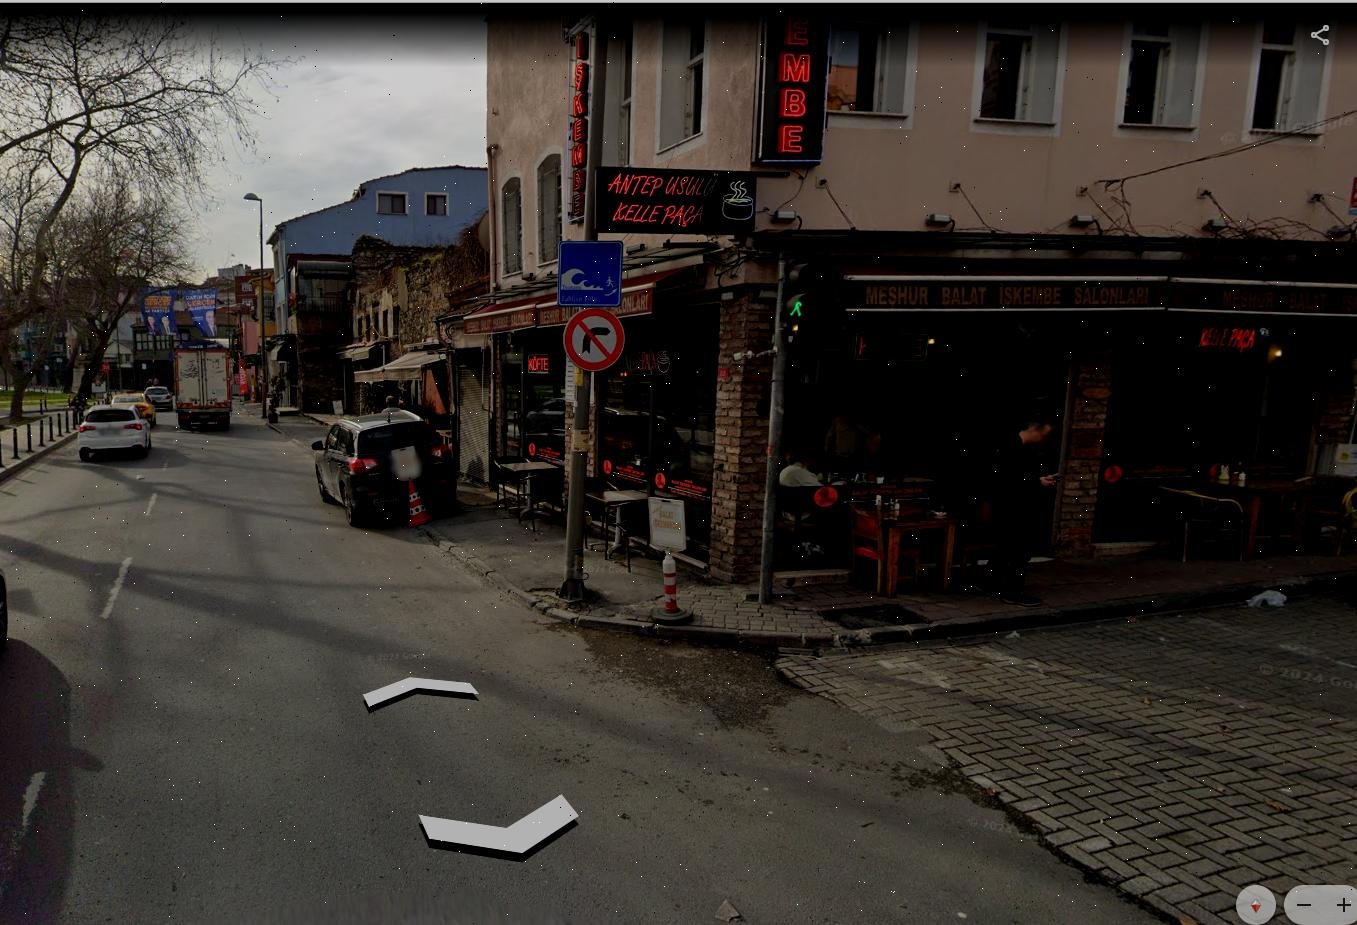rightturnsareforbidden: (565, 311, 625, 367)
